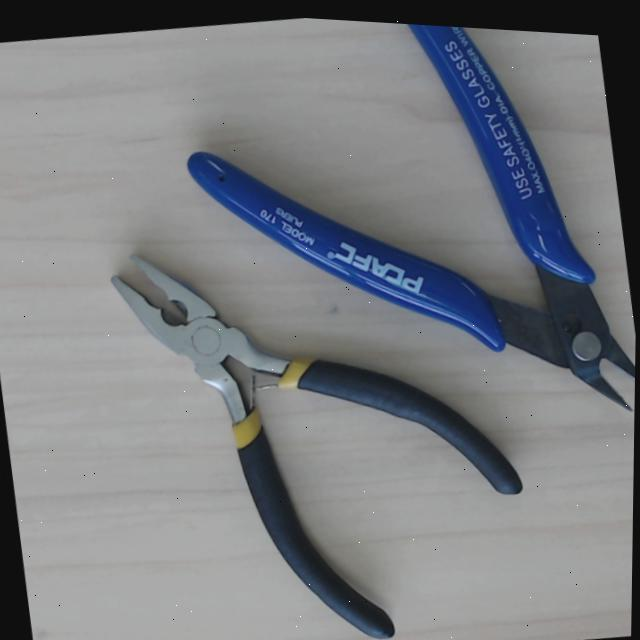Tang-Jepit-Hitam: (43, 180, 531, 640)
